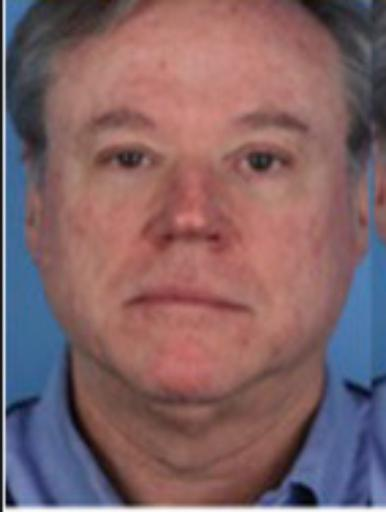left_eye: (227, 147, 295, 179)
left_lip_corner: (237, 299, 253, 324)
right_eye: (97, 148, 163, 176)
right_lip_corner: (121, 293, 141, 317)
